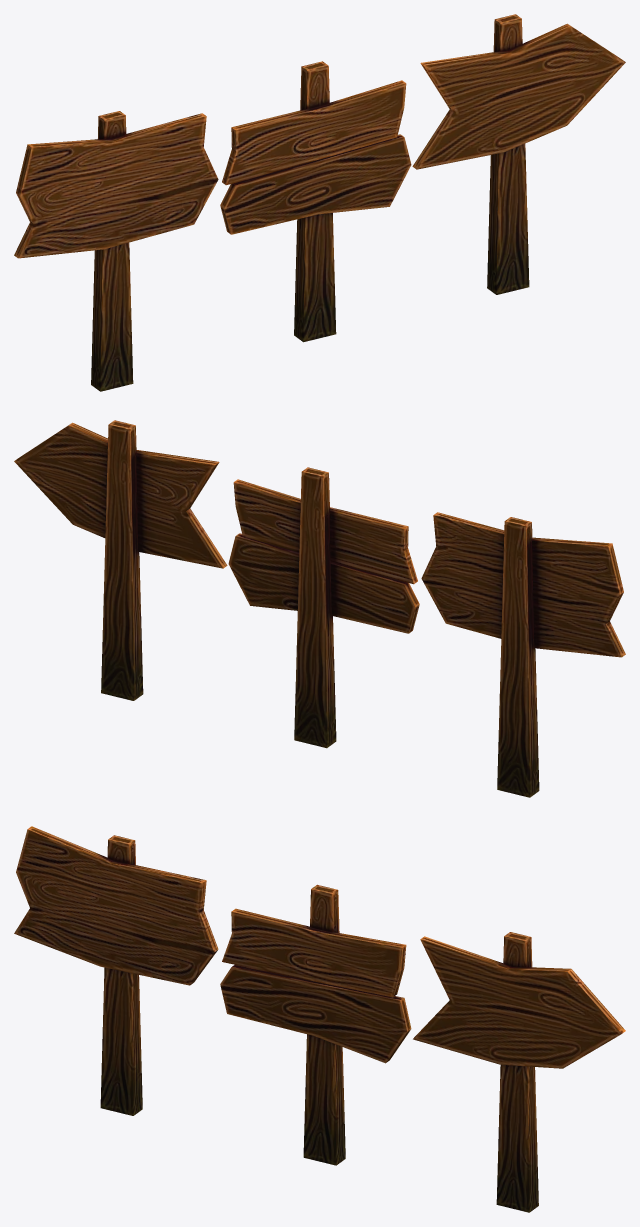
The model's file is PRP_PuzzleBoard.glb.
The picture shows the model from 3 angles, top to bottom: view 1: azimuth 30°, elevation 25°; view 2: azimuth 150°, elevation 25°; view 3: azimuth 330°, elevation 25°; orthographic projection.
Parts seen in each view (by area): view 1: sign1, sign2, sign3; view 2: sign1, sign2, sign3; view 3: sign1, sign2, sign3.
Part boxes in pixels (x1,y1,x2,y2): sign1: (14, 111, 218, 391); sign2: (220, 61, 411, 342); sign3: (412, 14, 625, 294); sign1: (421, 512, 625, 797); sign2: (228, 467, 419, 748); sign3: (14, 420, 227, 700); sign1: (14, 826, 218, 1115); sign2: (220, 884, 411, 1165); sign3: (413, 932, 625, 1212).
Size of the model in its own units: 4.06 by 1.72 by 0.1344.
Materials: 1 (1 with a texture image).
